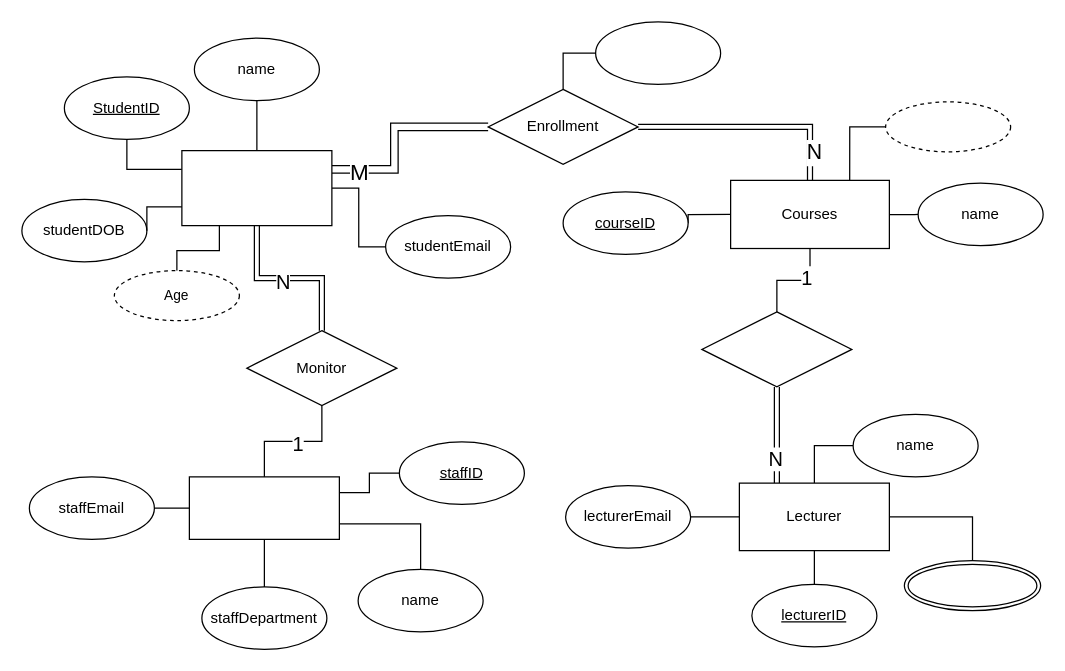
This 1065x671 diagram has some shape labels left out. The shapes that lost their labels are listed below. From the top down, each one's centre as x and y in pixels, then its label:
the point at 657,52: enrollmentDate
the point at 947,126: totalCourses
the point at 256,187: Student
the point at 776,349: Teach
the point at 263,507: Administration Staff
the point at 972,585: phoneNumber
